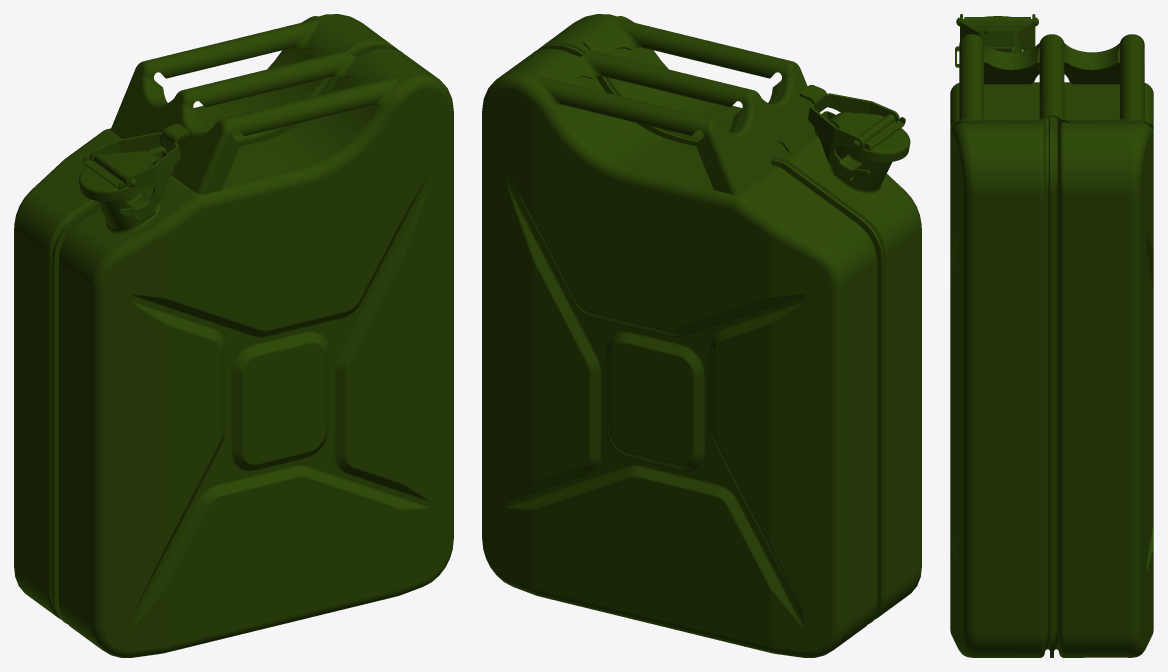
3 views of the same model, side by side, from view 1: azimuth 30°, elevation 25°; view 2: azimuth 150°, elevation 25°; view 3: azimuth 270°, elevation 25° (orthographic). The views are drawn at different scales.
Visible parts, largest first — view 1: Jerry CAN_20L (×7); view 2: Jerry CAN_20L (×7); view 3: Jerry CAN_20L (×5).
Part boxes in pixels (bbox=[...]): Jerry CAN_20L (×7): bbox=[14, 14, 453, 657]; Jerry CAN_20L (×7): bbox=[482, 14, 921, 657]; Jerry CAN_20L (×5): bbox=[950, 14, 1153, 657].
Size of the model in its own units: 345 by 469 by 165.
